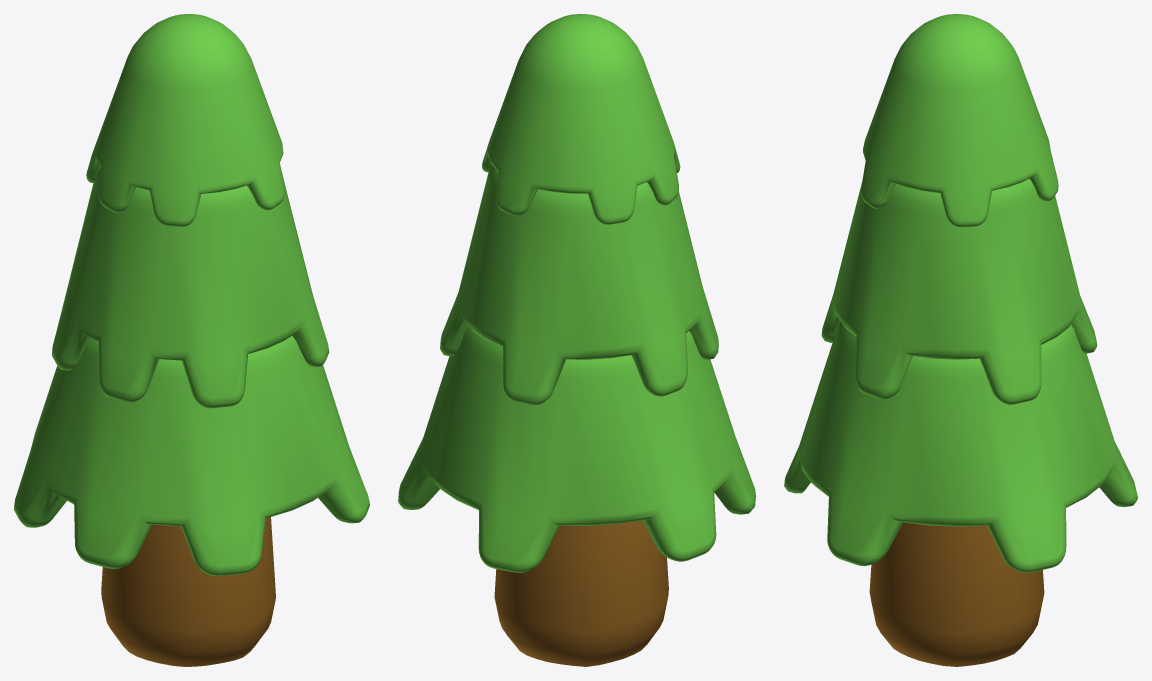
File: tree 100%.fbx
The picture shows the model from 3 angles, left to right: view 1: azimuth 30°, elevation 25°; view 2: azimuth 150°, elevation 25°; view 3: azimuth 270°, elevation 25°; orthographic projection.
Visible parts, largest first — view 1: Cylinder.012; view 2: Cylinder.012; view 3: Cylinder.012.
Boxes of the visible parts, left/top/right/bottom form: Cylinder.012: left=14, top=14, right=369, bottom=666; Cylinder.012: left=398, top=14, right=755, bottom=666; Cylinder.012: left=784, top=14, right=1137, bottom=666.
Size of the model in its own units: 3694 by 7473 by 3838.
